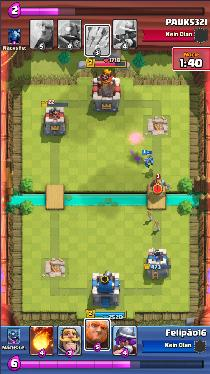ally_minion: (143, 155, 153, 167)
enemy_knight: (150, 178, 170, 192)
